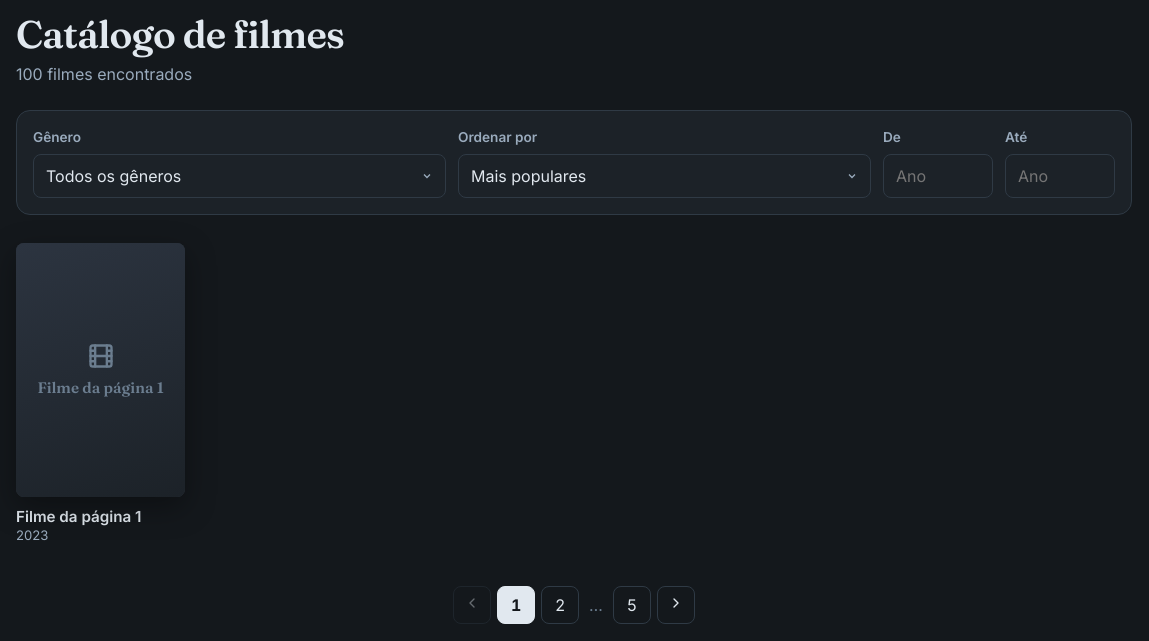
CatalogPage › pagina o catálogo
The image size is (1149, 641).
Click the button named "Página 2": coordinates (560, 605) x1=541 y1=586 x2=579 y2=624
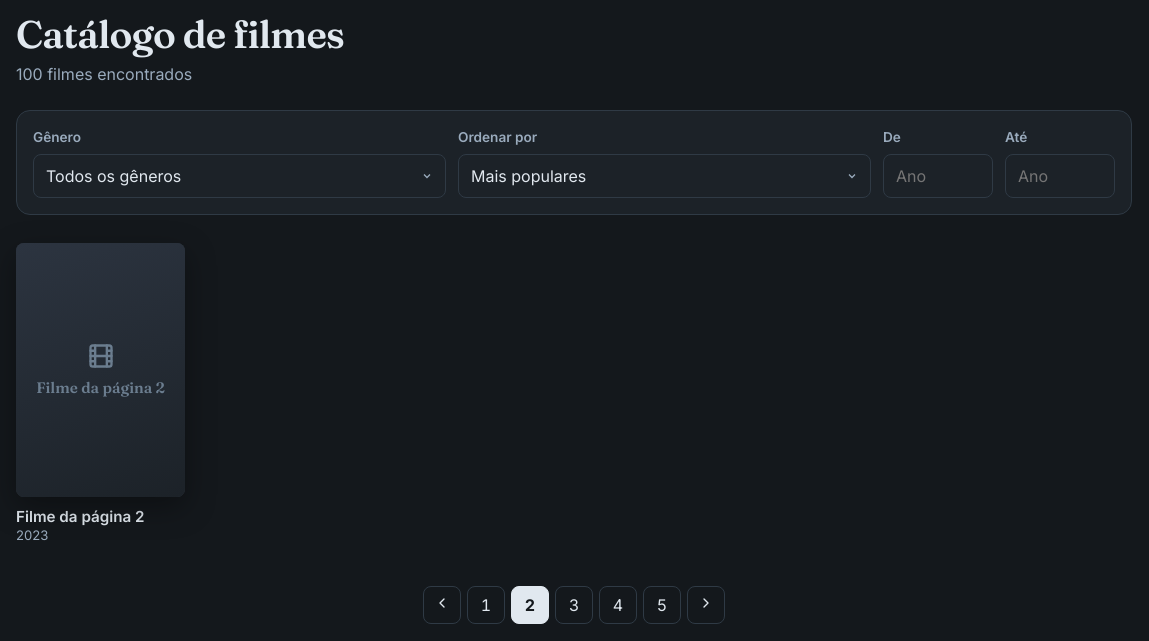
Now the heading "Filme da página 2" is shown, box x1=16 y1=506 x2=144 y2=526
